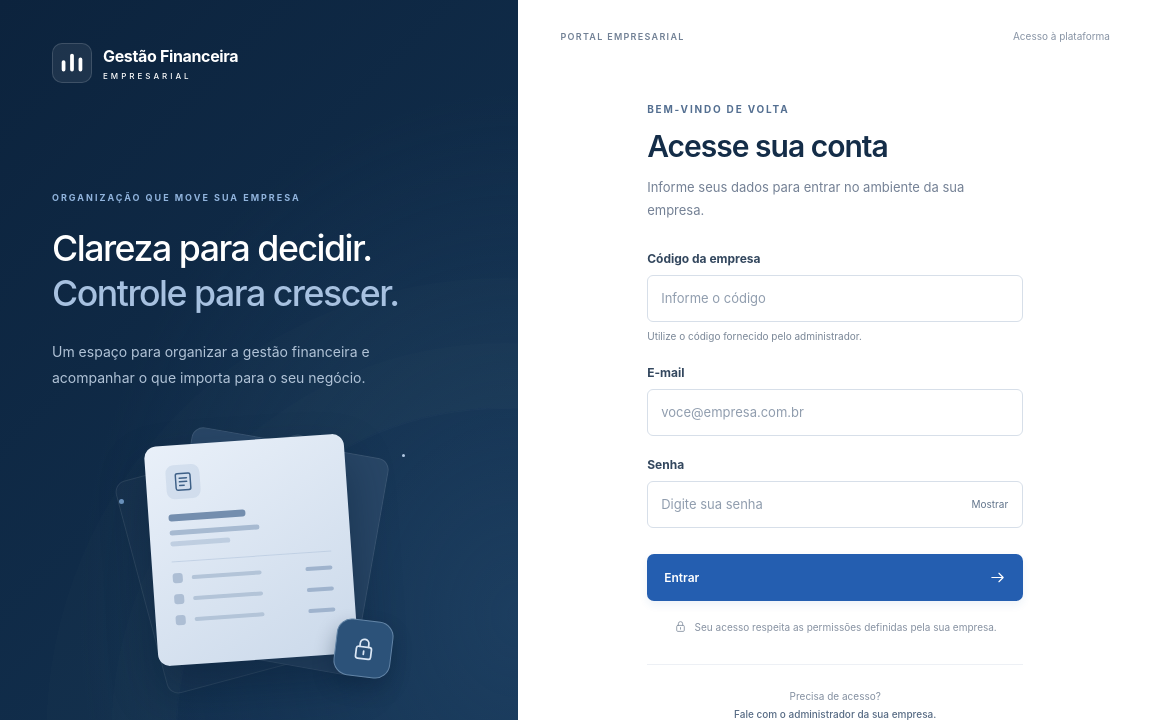
Test: Acesso empresarial › valida campos obrigatórios e foca o primeiro inválido
Click the button "Entrar".
click(682, 577)  # box x1=647 y1=554 x2=1023 y2=601
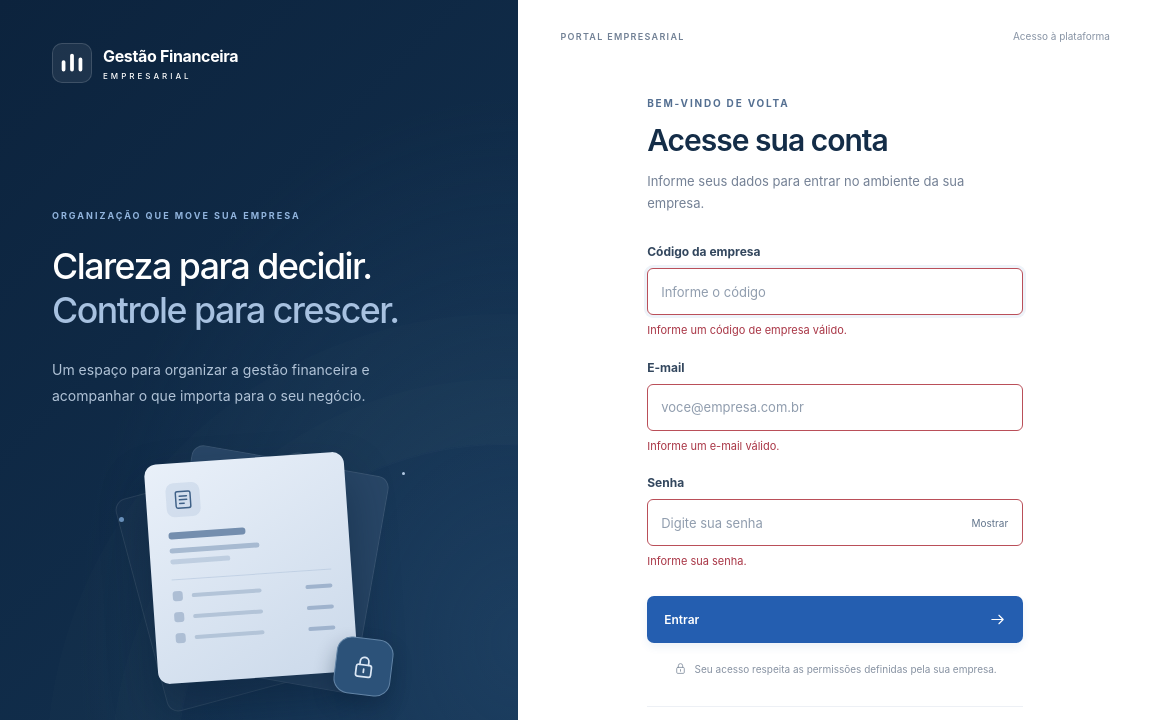
Expected: the text "Informe um código de empresa válido." is shown, x1=647 y1=323 x2=847 y2=337
Expected: the text "Informe um e-mail válido." is shown, x1=647 y1=439 x2=780 y2=453
Expected: the text "Informe sua senha." is shown, x1=647 y1=554 x2=747 y2=568
